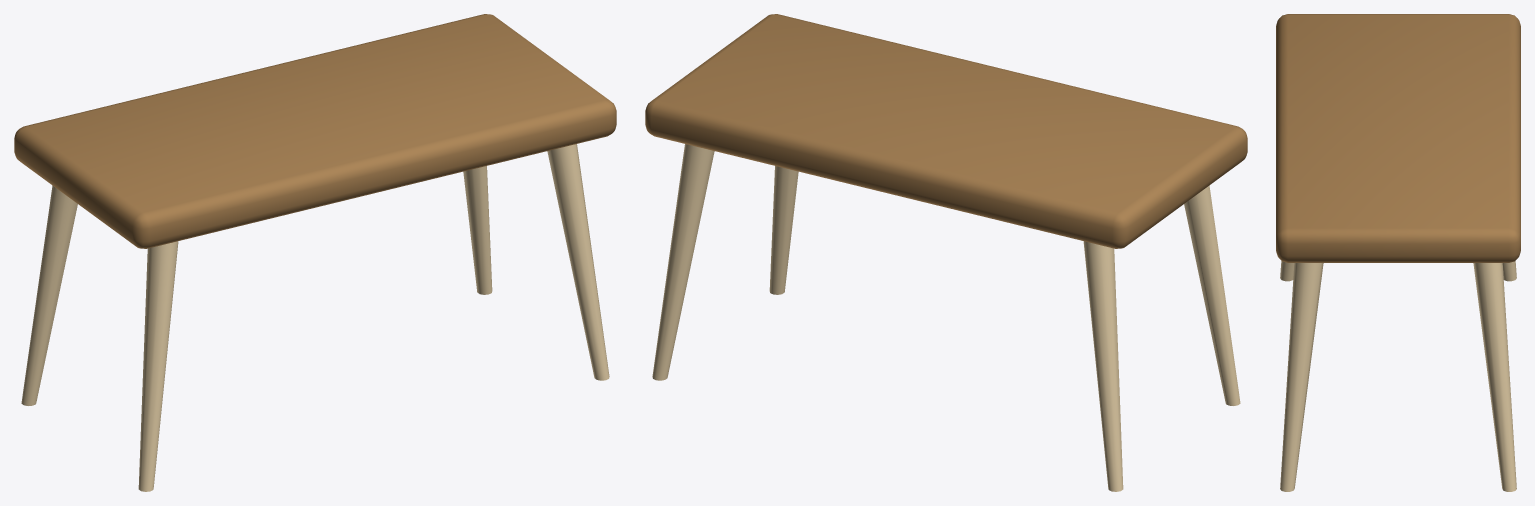
The model's file is Table_1V.fbx.
3 renders of one model, left to right at view 1: azimuth 30°, elevation 25°; view 2: azimuth 150°, elevation 25°; view 3: azimuth 270°, elevation 25°, orthographic. The views are drawn at different scales.
Visible parts, largest first — view 1: Table_1V; view 2: Table_1V; view 3: Table_1V.
Part boxes in pixels (x1,y1,x2,y2): Table_1V: (14,14,616,491); Table_1V: (645,14,1247,491); Table_1V: (1276,14,1520,491).
Bounding box in the file's own units: 1.04 × 0.5678 × 0.4807.
